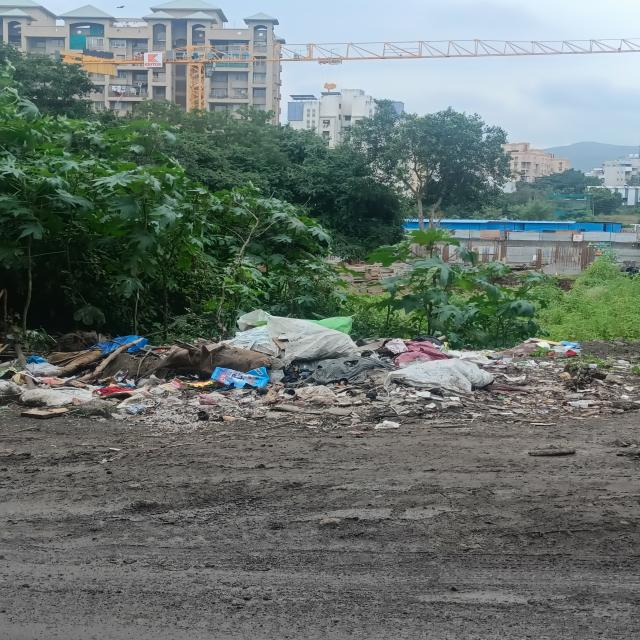garbage: (2, 317, 614, 412)
